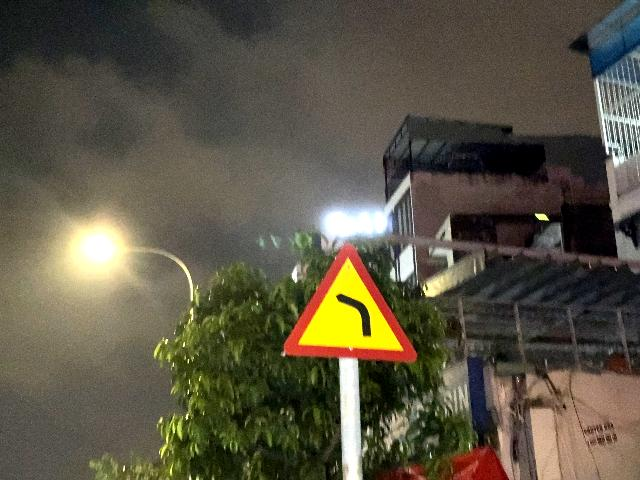cho-ngoat-nguy-hiem-ben-trai: (284, 240, 417, 363)
